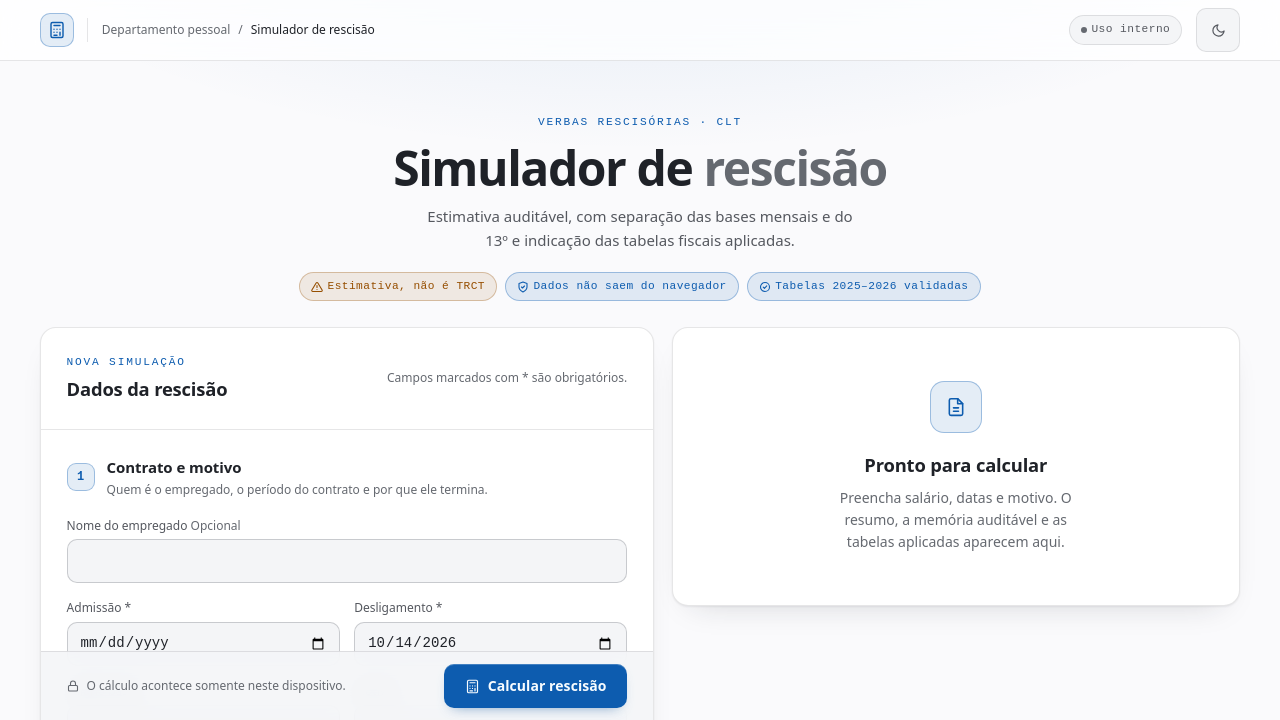
Test: SimuladorRescisao › informa por que salário zero não gera cálculo
This screenshot has width=1280, height=720.
In the date field labelled "Admissão *": [203, 644] box [67,622,340,666], type "2023-01-01"
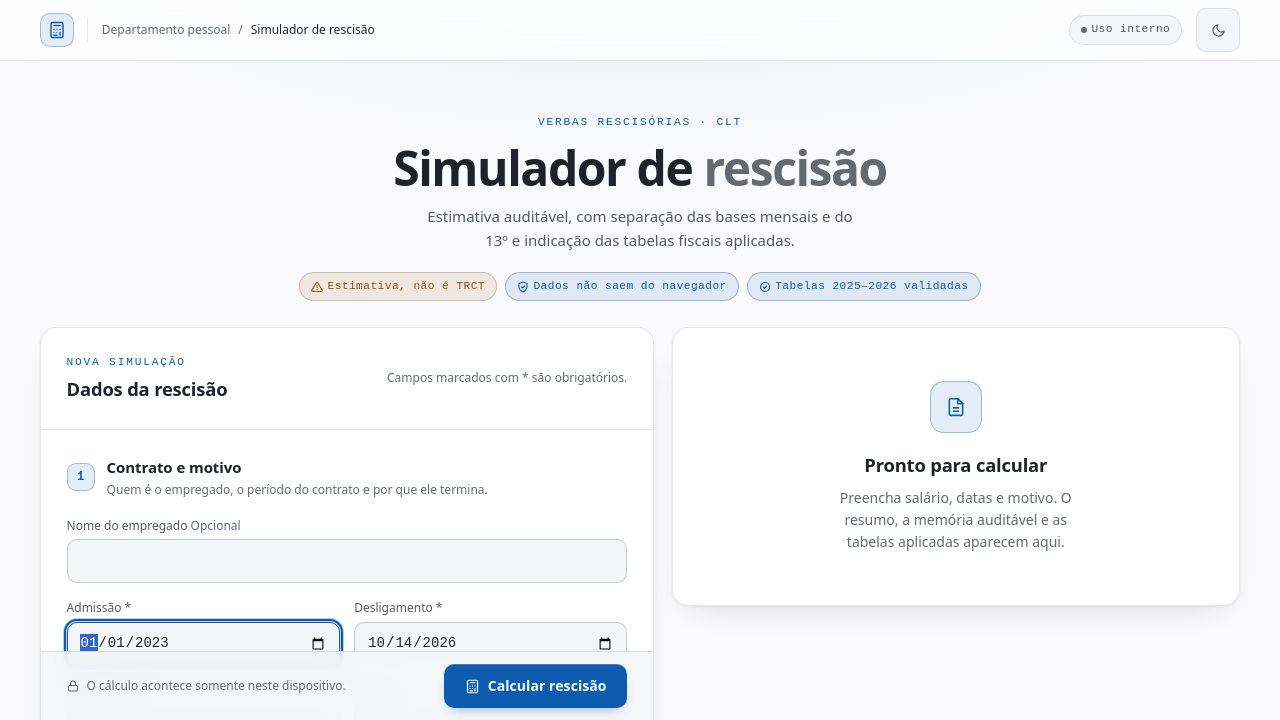
Click the button "Calcular rescisão": [536, 686] box [444,664,627,708]
(page scrolled)
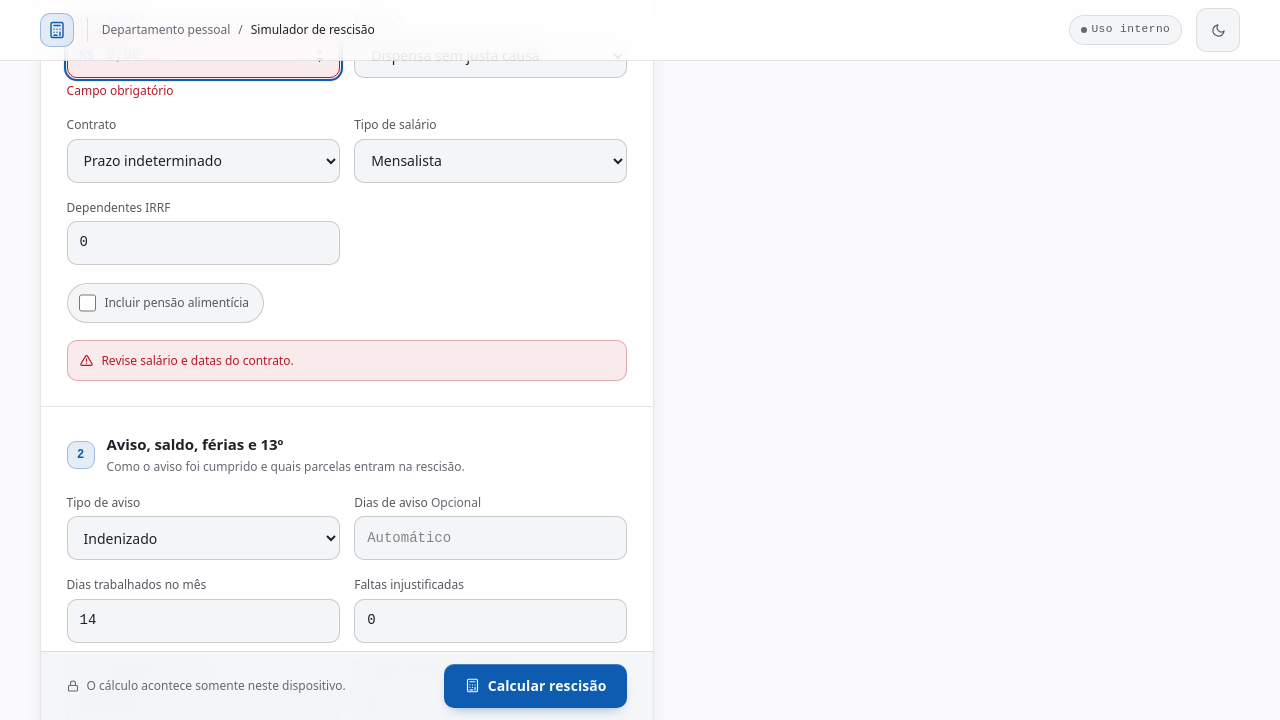
Check: the text "Revise salário e datas do contrato." is shown, box [101,352,294,369]
